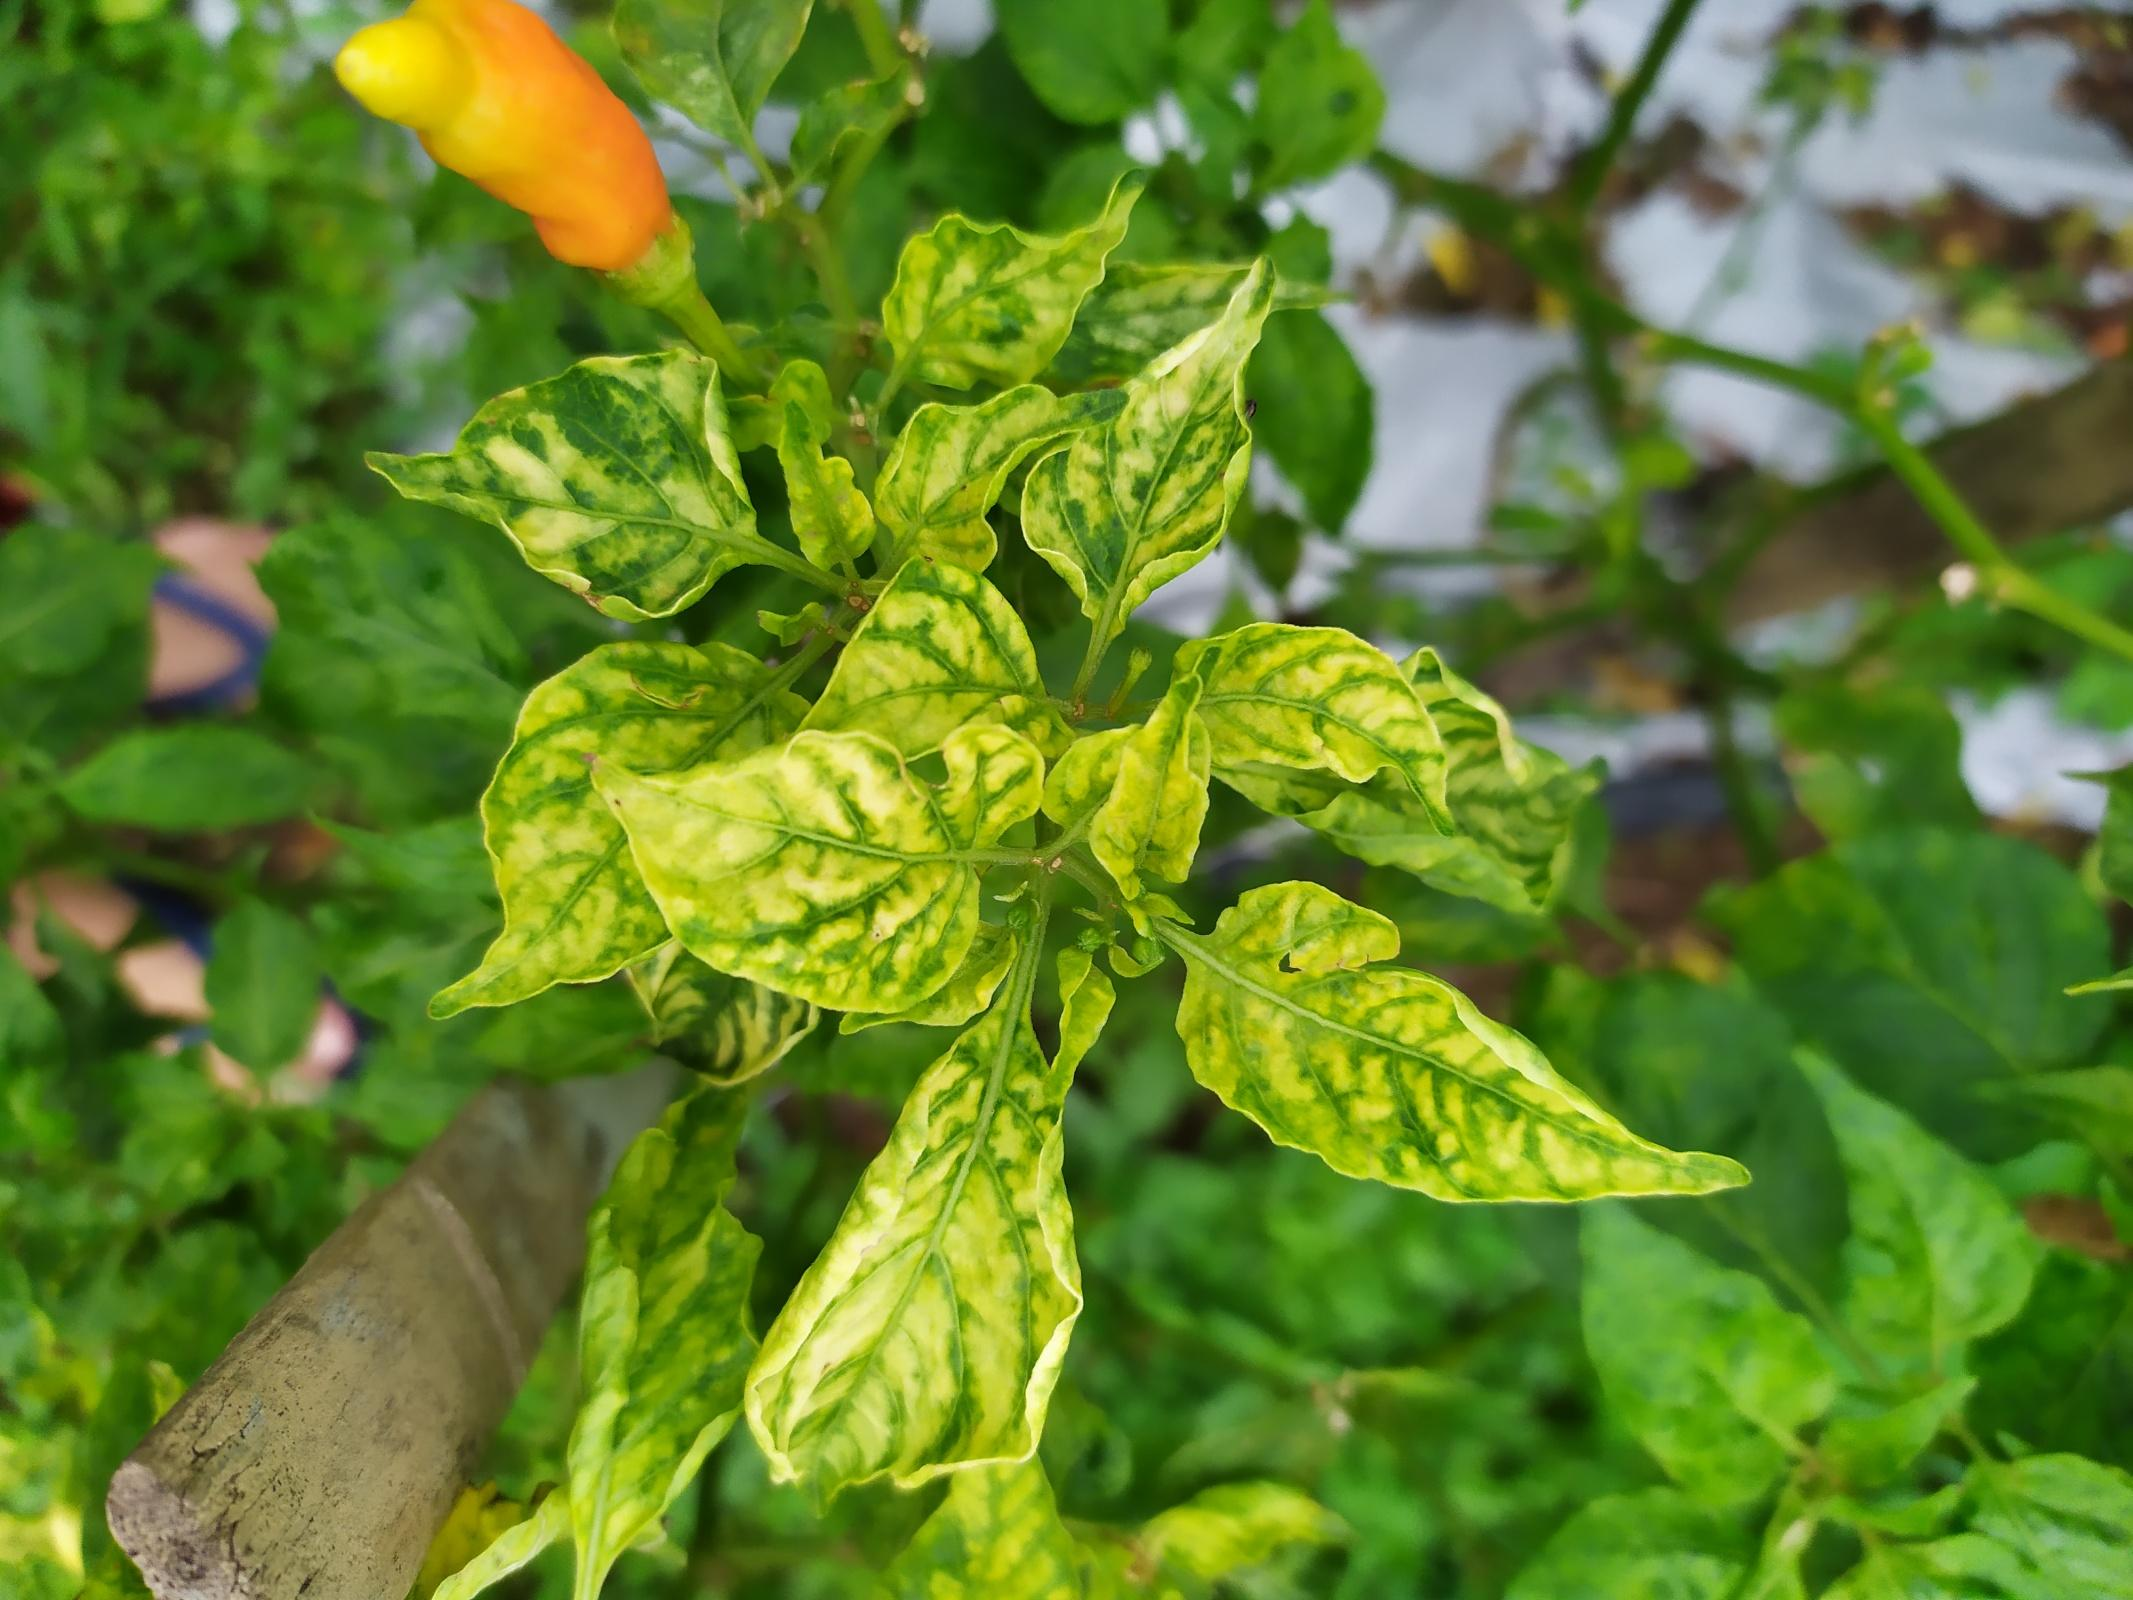cabai_normal: (331, 0, 674, 277)
